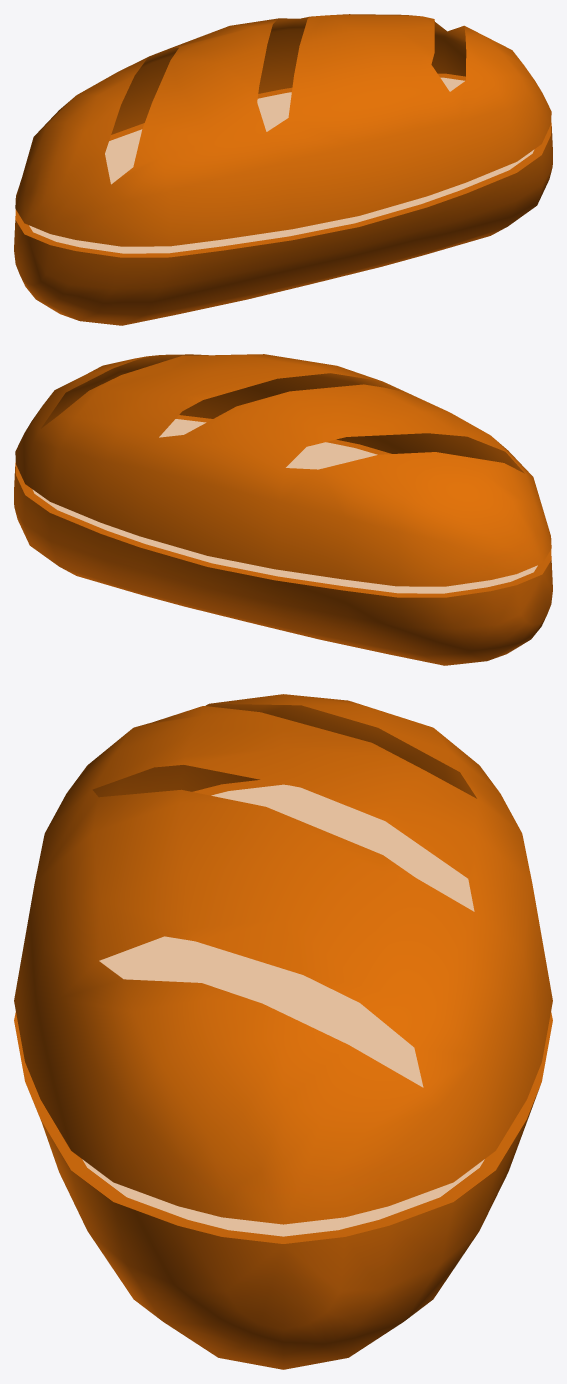
Rendered from Sliced_white_bread_01.1.fbx.
The picture shows the model from 3 angles, top to bottom: view 1: azimuth 30°, elevation 25°; view 2: azimuth 150°, elevation 25°; view 3: azimuth 270°, elevation 25°; orthographic projection. The views are drawn at different scales.
Parts seen in each view (by area): view 1: Sliced_white_bread_01.1, Sliced_white_bread_01.2; view 2: Sliced_white_bread_01.1, Sliced_white_bread_01.2; view 3: Sliced_white_bread_01.1, Sliced_white_bread_01.2.
Part boxes in pixels (x1,y1,x2,y2): Sliced_white_bread_01.1: (15,14,551,246); Sliced_white_bread_01.2: (14,122,552,325); Sliced_white_bread_01.1: (15,354,551,586); Sliced_white_bread_01.2: (14,462,552,665); Sliced_white_bread_01.1: (14,694,552,1224); Sliced_white_bread_01.2: (14,1011,552,1369).
Bounding box in the file's own units: 235 × 98.43 × 119.
